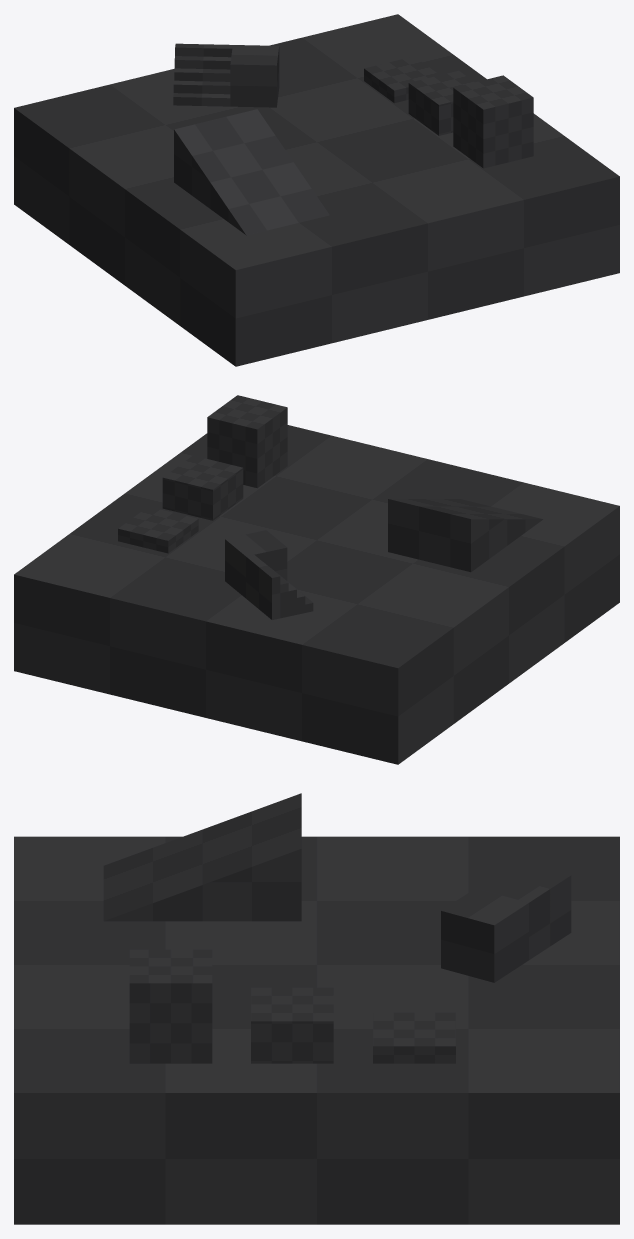
The model's file is fps facility.glb.
The picture shows the model from 3 angles, top to bottom: view 1: azimuth 30°, elevation 25°; view 2: azimuth 150°, elevation 25°; view 3: azimuth 270°, elevation 25°; orthographic projection. The views are drawn at different scales.
Visible parts, largest first — view 1: stage; view 2: stage; view 3: stage.
Boxes of the visible parts, <box> form: stage: <box>14,14,619,366</box>; stage: <box>14,395,619,764</box>; stage: <box>14,793,619,1224</box>.
Size of the model in its own units: 19.08 by 7.37 by 19.08.
1 material, 1 textured.
